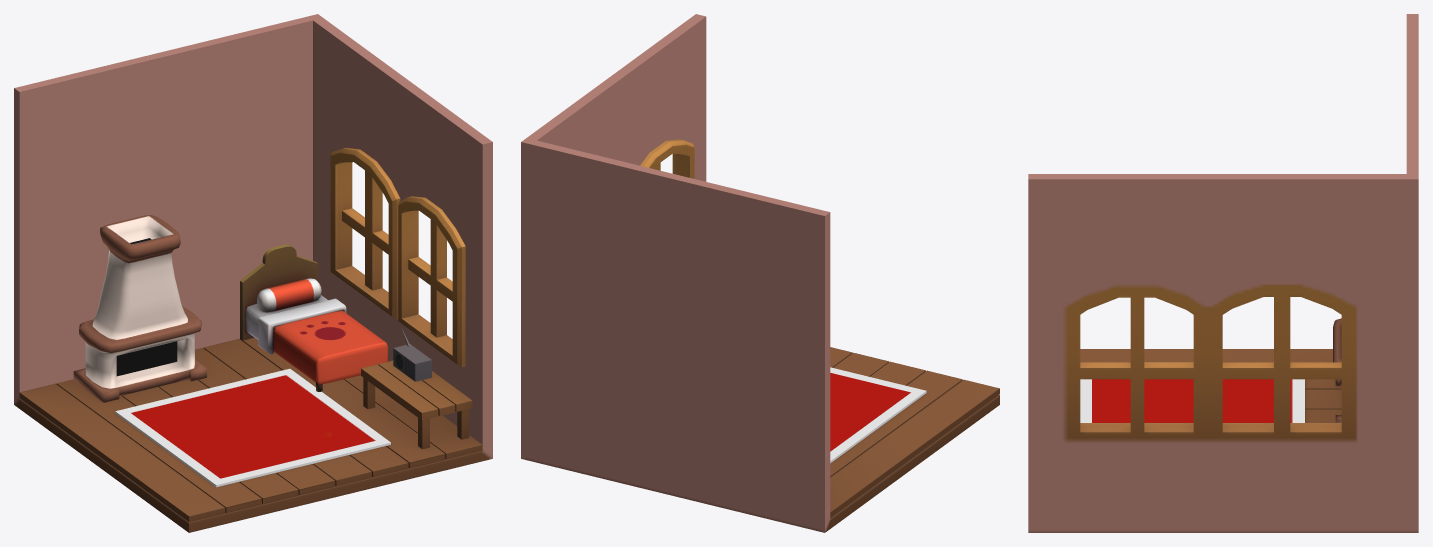
Rendered from RoomShiba.fbx.
3 renders of one model, left to right at view 1: azimuth 30°, elevation 25°; view 2: azimuth 150°, elevation 25°; view 3: azimuth 270°, elevation 25°, orthographic. The views are drawn at different scales.
Visible parts, largest first — view 1: Plane.004; view 2: Plane.004; view 3: Plane.004.
Part boxes in pixels (bbox=[...]): Plane.004: bbox=[14, 14, 492, 532]; Plane.004: bbox=[521, 14, 999, 532]; Plane.004: bbox=[1028, 14, 1418, 532].
Size of the model in its own units: 207 by 206 by 206.
Materials: 2 (2 with a texture image).
